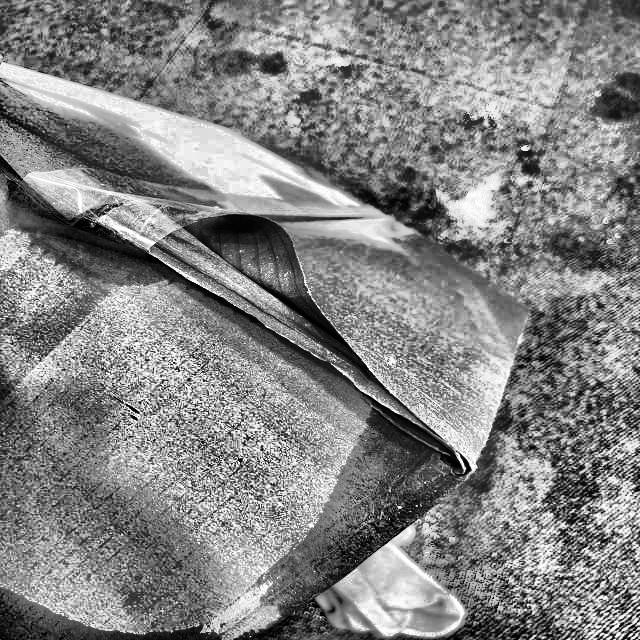box: (0, 59, 537, 639)
wet: (232, 227, 534, 590)
